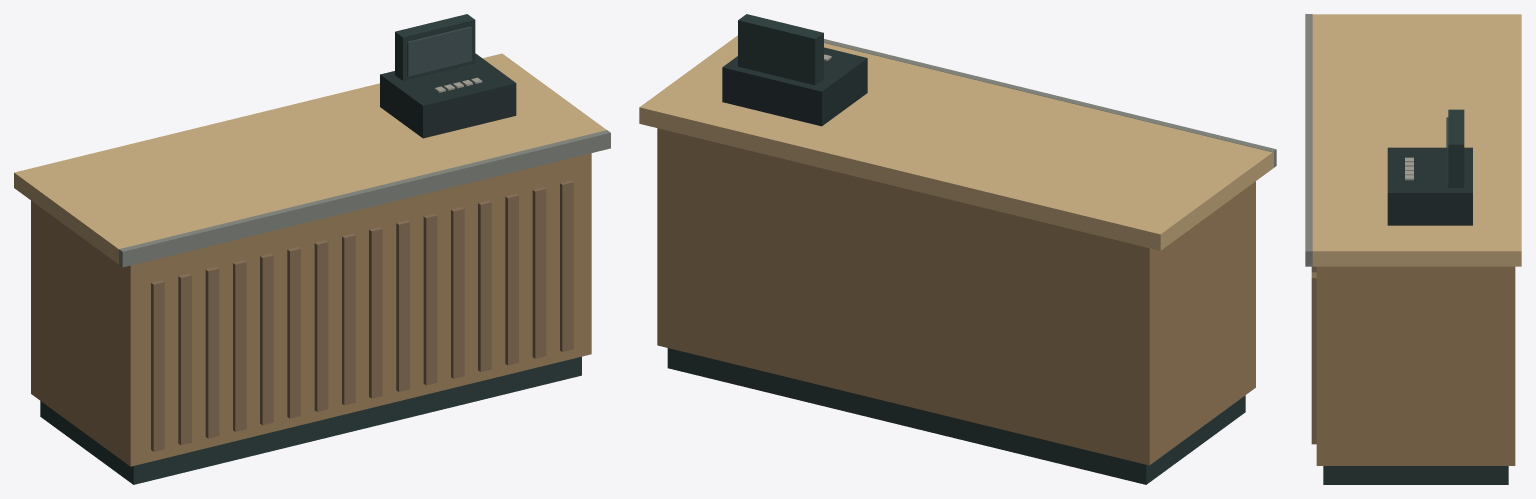
Rendered from station_checkout_counter.glb.
The picture shows the model from 3 angles, left to right: view 1: azimuth 30°, elevation 25°; view 2: azimuth 150°, elevation 25°; view 3: azimuth 270°, elevation 25°; orthographic projection. The views are drawn at different scales.
Parts seen in each view (by area): view 1: Checkout cabinet, Uncluttered laminate top, Setback toe kick, Steel counter edge, Register cash drawer, Fluted front.010, Fluted front.002, Fluted front.006, Fluted front.014, Fluted front, Fluted front.003, Fluted front.004 (+11 smaller); view 2: Checkout cabinet, Uncluttered laminate top, Setback toe kick, Register cash drawer, Register screen, Steel counter edge; view 3: Uncluttered laminate top, Checkout cabinet, Register cash drawer, Setback toe kick, Steel counter edge, Register screen, Fluted front.015.
Boxes of the visible parts, left/top/right/bottom form: Checkout cabinet: left=31, top=153, right=591, bottom=466; Uncluttered laminate top: left=14, top=53, right=606, bottom=264; Setback toe kick: left=40, top=356, right=581, bottom=484; Steel counter edge: left=119, top=130, right=610, bottom=267; Register cash drawer: left=380, top=53, right=516, bottom=138; Fluted front.010: left=423, top=213, right=437, bottom=385; Fluted front.002: left=205, top=267, right=219, bottom=438; Fluted front.006: left=314, top=240, right=328, bottom=411; Fluted front.014: left=532, top=187, right=546, bottom=358; Fluted front: left=151, top=280, right=164, bottom=451; Fluted front.003: left=233, top=260, right=246, bottom=431; Fluted front.004: left=260, top=253, right=273, bottom=425; Checkout cabinet: left=657, top=128, right=1255, bottom=465; Uncluttered laminate top: left=639, top=35, right=1273, bottom=250; Setback toe kick: left=667, top=348, right=1245, bottom=484; Register cash drawer: left=722, top=47, right=867, bottom=126; Register screen: left=738, top=14, right=823, bottom=85; Steel counter edge: left=824, top=39, right=1276, bottom=167; Uncluttered laminate top: left=1311, top=14, right=1521, bottom=266; Checkout cabinet: left=1316, top=266, right=1515, bottom=465; Register cash drawer: left=1387, top=147, right=1472, bottom=225; Setback toe kick: left=1323, top=466, right=1508, bottom=484; Steel counter edge: left=1305, top=14, right=1312, bottom=266; Register screen: left=1448, top=109, right=1464, bottom=187; Fluted front.015: left=1311, top=272, right=1316, bottom=444.
Size of the model in its own units: 2.15 by 1.35 by 0.829.
